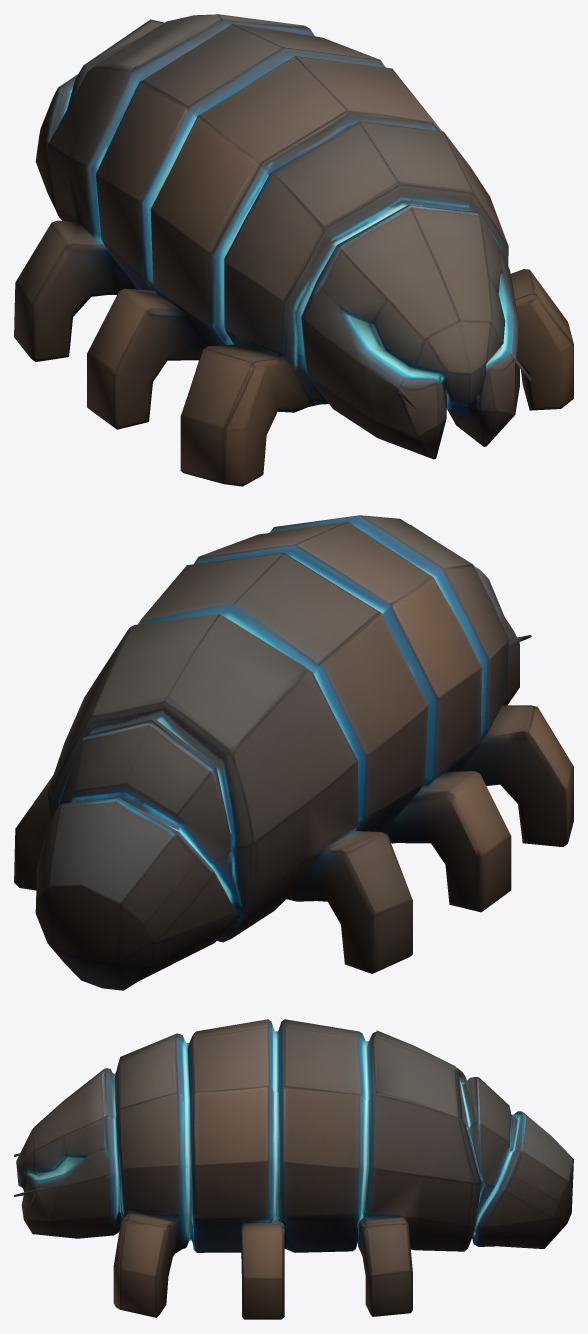
Rendered from monster_armored.glb.
The picture shows the model from 3 angles, top to bottom: view 1: azimuth 30°, elevation 25°; view 2: azimuth 150°, elevation 25°; view 3: azimuth 270°, elevation 25°; orthographic projection. The views are drawn at different scales.
Visible parts, largest first — view 1: mesh_rep_0_ori_repair_quad; view 2: mesh_rep_0_ori_repair_quad; view 3: mesh_rep_0_ori_repair_quad.
Part boxes in pixels (<box>): mesh_rep_0_ori_repair_quad: <box>14,14,573,486</box>; mesh_rep_0_ori_repair_quad: <box>14,515,573,990</box>; mesh_rep_0_ori_repair_quad: <box>14,1019,573,1319</box>.
Bounding box in the file's own units: 68.34 × 51.48 × 116.
1 material, 1 textured.
